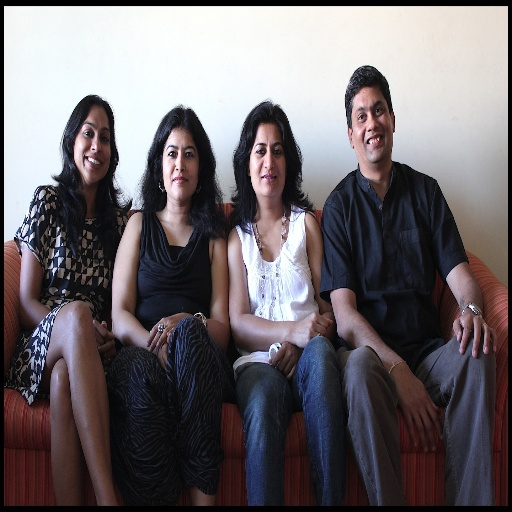hand: (394, 363, 443, 456), (454, 291, 488, 373), (145, 311, 187, 356), (288, 310, 334, 351), (267, 338, 302, 380), (96, 320, 117, 373), (91, 316, 114, 347), (154, 341, 169, 377)
